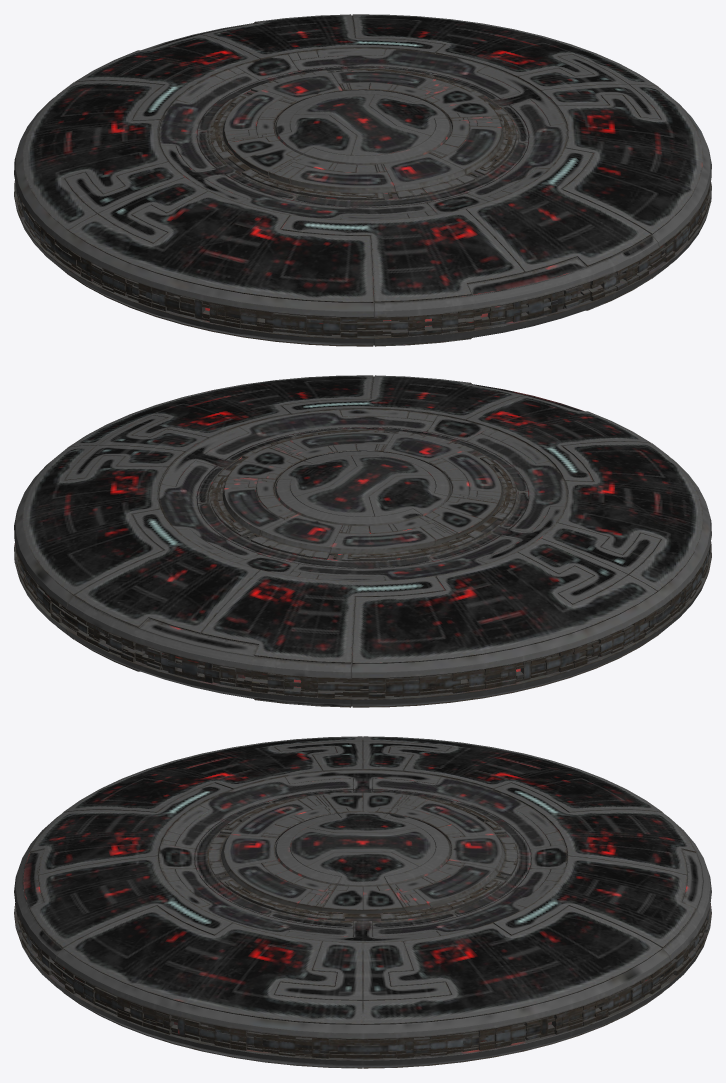
File: ufo_doodle.glb
The picture shows the model from 3 angles, top to bottom: view 1: azimuth 30°, elevation 25°; view 2: azimuth 150°, elevation 25°; view 3: azimuth 270°, elevation 25°; orthographic projection.
Parts seen in each view (by area): view 1: ufo.009_low, ufo.004_low, ufo.005_low, ufo.007_low, ufo.003_low, ufo.002_low, ufo.010_low, ufo.011_low, ufo.001_low, ufo_low, ufo.008_low; view 2: ufo.009_low, ufo.004_low, ufo.005_low, ufo.007_low, ufo.003_low, ufo.002_low, ufo.010_low, ufo.011_low, ufo.001_low, ufo_low, ufo.008_low; view 3: ufo.009_low, ufo.004_low, ufo.005_low, ufo.007_low, ufo.003_low, ufo.002_low, ufo.010_low, ufo.011_low, ufo.001_low, ufo_low, ufo.008_low.
Part boxes in pixels (bbox=[...]): ufo.009_low: bbox=[22, 14, 703, 346]; ufo.004_low: bbox=[14, 15, 711, 345]; ufo.005_low: bbox=[159, 48, 566, 220]; ufo.007_low: bbox=[274, 90, 451, 164]; ufo.003_low: bbox=[15, 183, 710, 337]; ufo.002_low: bbox=[20, 189, 709, 336]; ufo.010_low: bbox=[224, 80, 501, 179]; ufo.011_low: bbox=[228, 87, 497, 171]; ufo.001_low: bbox=[210, 67, 515, 200]; ufo_low: bbox=[210, 68, 515, 200]; ufo.008_low: bbox=[14, 71, 711, 338]; ufo.009_low: bbox=[22, 375, 703, 707]; ufo.004_low: bbox=[14, 376, 711, 706]; ufo.005_low: bbox=[159, 409, 566, 581]; ufo.007_low: bbox=[274, 451, 451, 525]; ufo.003_low: bbox=[15, 544, 710, 698]; ufo.002_low: bbox=[16, 550, 705, 697]; ufo.010_low: bbox=[224, 441, 501, 540]; ufo.011_low: bbox=[228, 448, 497, 532]; ufo.001_low: bbox=[210, 428, 515, 561]; ufo_low: bbox=[210, 429, 515, 561]; ufo.008_low: bbox=[14, 432, 711, 699]; ufo.009_low: bbox=[30, 736, 695, 1068]; ufo.004_low: bbox=[14, 737, 711, 1067]; ufo.005_low: bbox=[158, 770, 567, 942]; ufo.007_low: bbox=[274, 812, 451, 886]; ufo.003_low: bbox=[16, 909, 709, 1058]; ufo.002_low: bbox=[17, 918, 708, 1058]; ufo.010_low: bbox=[261, 795, 464, 907]; ufo.011_low: bbox=[323, 792, 402, 909]; ufo.001_low: bbox=[209, 796, 516, 918]; ufo_low: bbox=[208, 792, 517, 920]; ufo.008_low: bbox=[14, 812, 711, 1060].
Size of the model in its own units: 18.44 by 3.5 by 18.44.
Materials: 1 (1 with a texture image).
